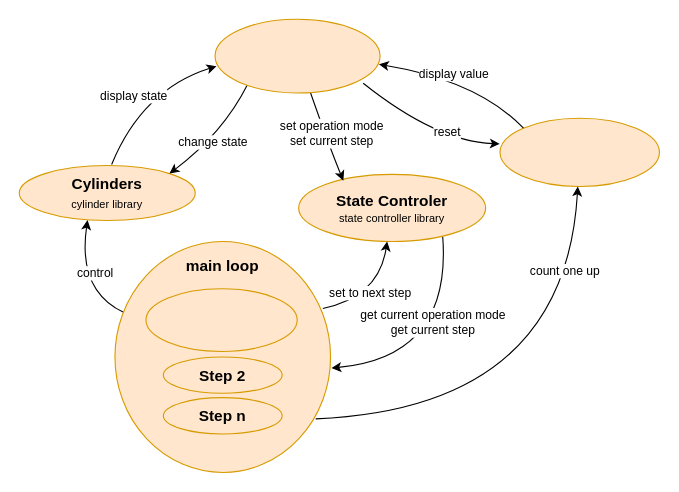
This 679x492 diagram has some shape labels left out. Each missing label, with the centre of its shape:
"Cycle Counter eeprom-counter library" belongs at pixel 579 151.
"Display nextion library" belongs at pixel 297 55.
"Step 1 base class from cycle step library" belongs at pixel 221 319.
